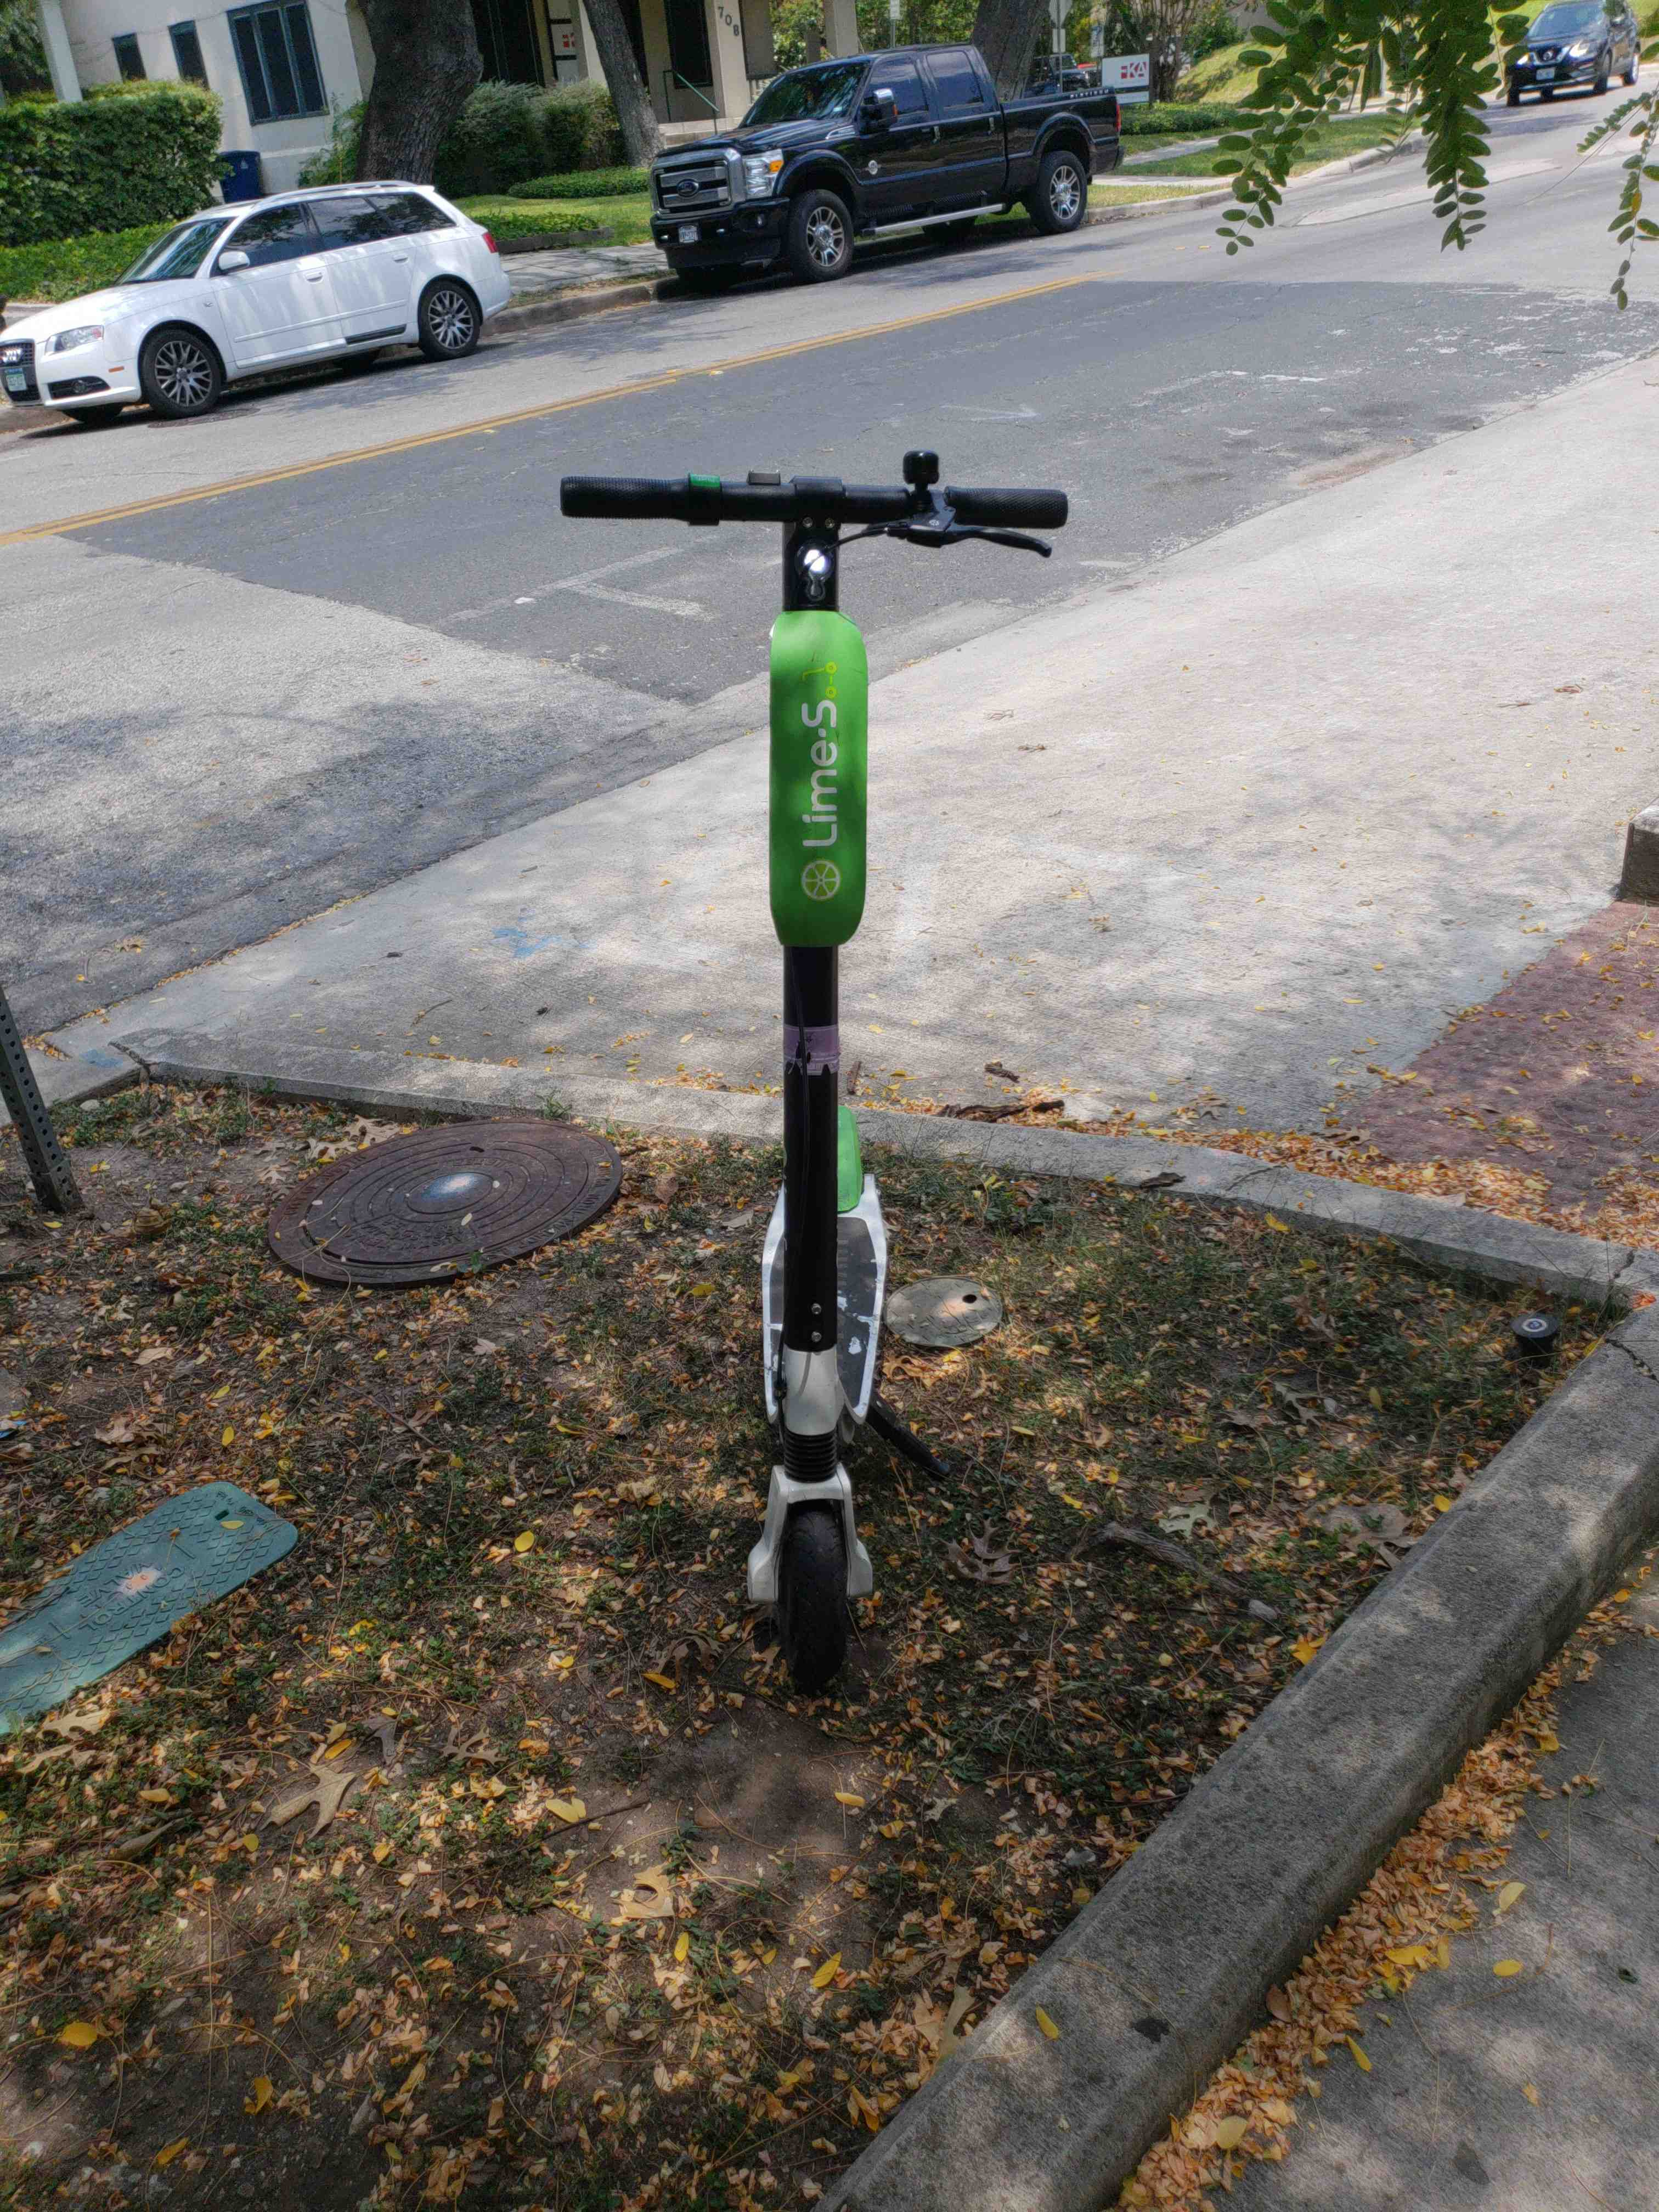scooter: (544, 453, 1096, 1740)
